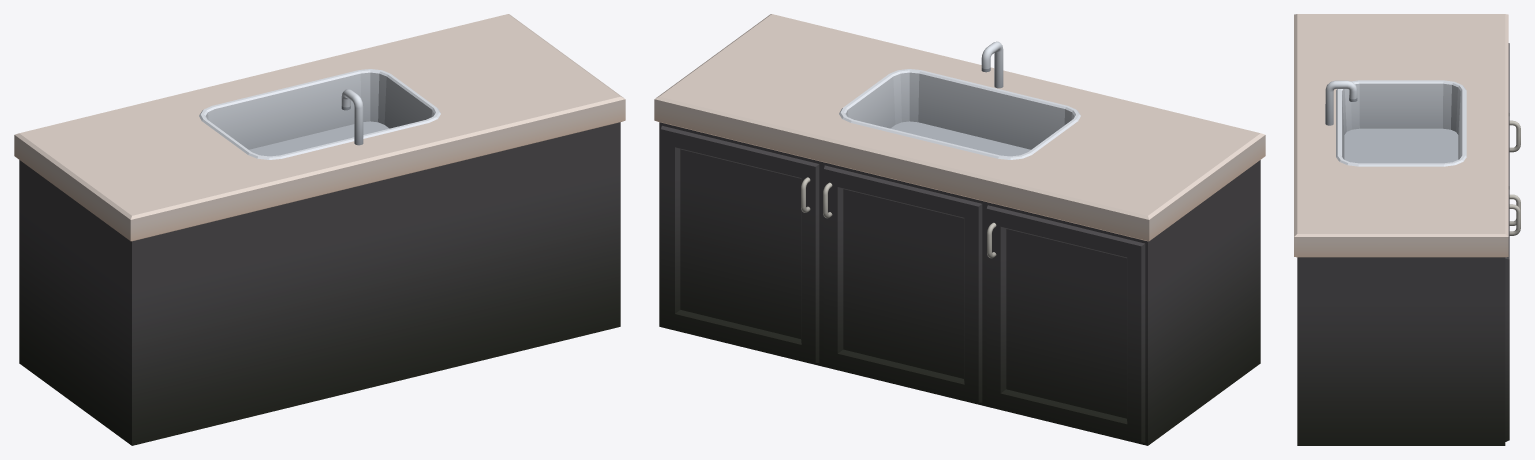
File: CounterSink.gltf
3 views of the same model, side by side, from view 1: azimuth 30°, elevation 25°; view 2: azimuth 150°, elevation 25°; view 3: azimuth 270°, elevation 25° (orthographic). The views are drawn at different scales.
Visible parts, largest first — view 1: CounterSink; view 2: CounterSink; view 3: CounterSink.
Boxes of the visible parts, x1=… form: CounterSink: x1=14, y1=14, x2=625, y2=445; CounterSink: x1=654, y1=14, x2=1265, y2=445; CounterSink: x1=1294, y1=14, x2=1520, y2=445.
Bounding box in the file's own units: 2.02 × 1.08 × 0.872.
Materials: 1 (1 with a texture image).
